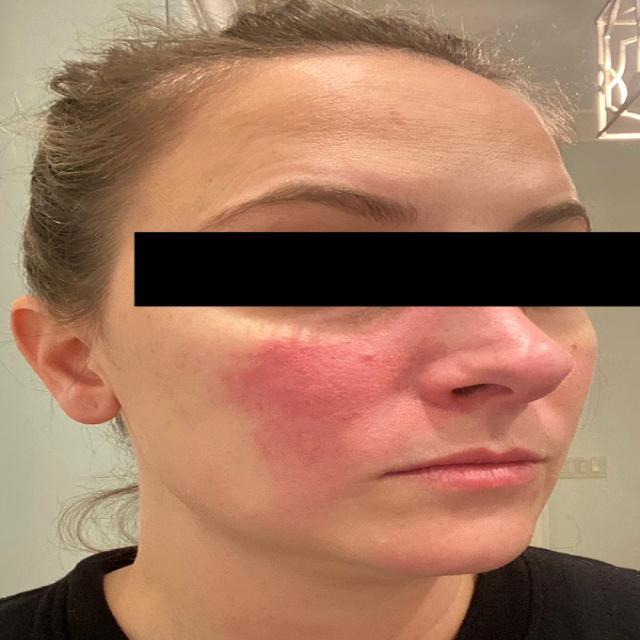Rosacea: (233, 344, 385, 467)
